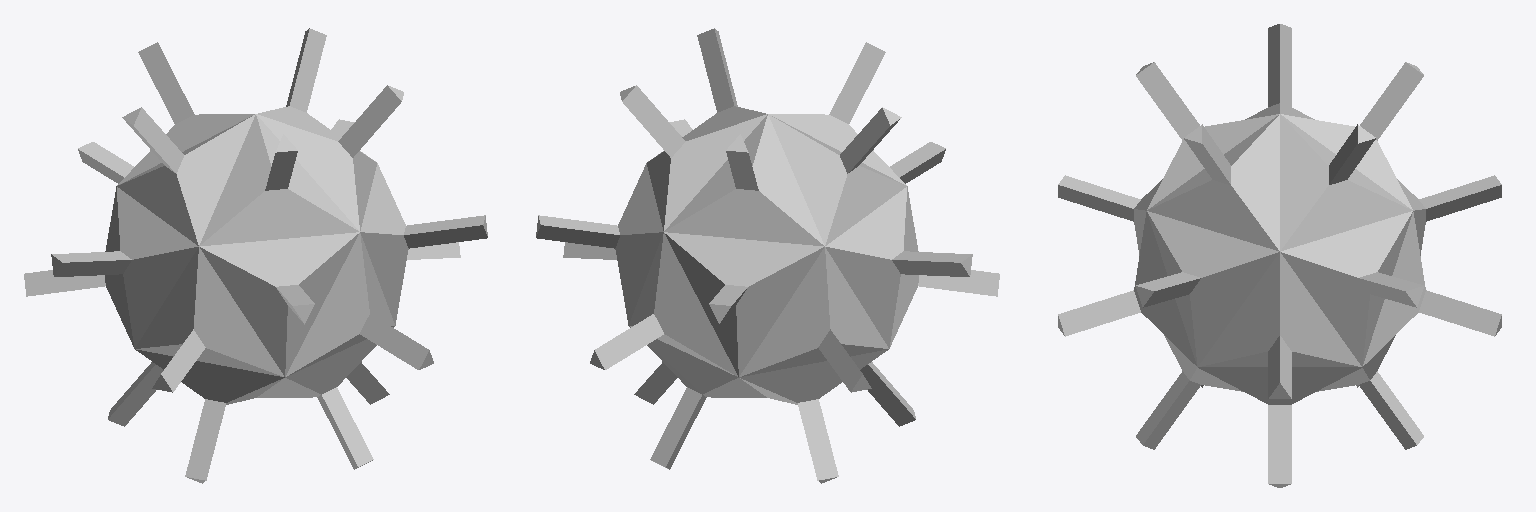
The model's file is iso7.obj.
3 views of the same model, side by side, from view 1: azimuth 30°, elevation 25°; view 2: azimuth 150°, elevation 25°; view 3: azimuth 270°, elevation 25° (orthographic).
Visible parts, largest first — view 1: Icosphere_Icosphere.001; view 2: Icosphere_Icosphere.001; view 3: Icosphere_Icosphere.001.
Boxes of the visible parts, x1,y1,x2,y2 form: Icosphere_Icosphere.001: [24, 28, 487, 483]; Icosphere_Icosphere.001: [536, 28, 999, 483]; Icosphere_Icosphere.001: [1058, 24, 1501, 487].
Bounding box in the file's own units: 2.98 × 2.49 × 2.83.